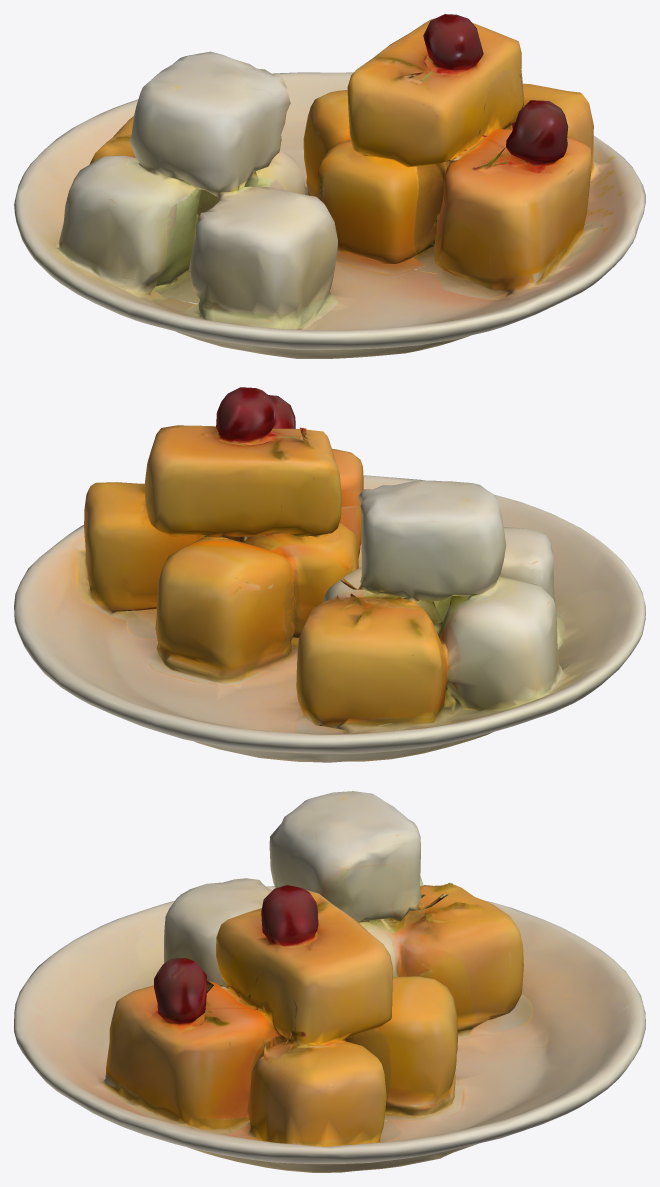
Rendered from Sweet_Delights_on_a_P_0813203153_texture.glb.
The picture shows the model from 3 angles, top to bottom: view 1: azimuth 30°, elevation 25°; view 2: azimuth 150°, elevation 25°; view 3: azimuth 270°, elevation 25°; orthographic projection.
Size of the model in its own units: 1.99 by 0.8615 by 1.99.
1 material, 1 textured.
